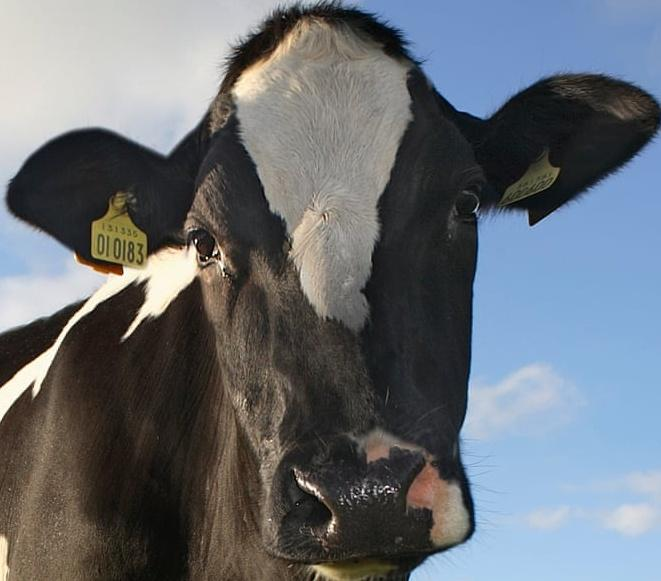muzzles: (245, 434, 484, 579)
